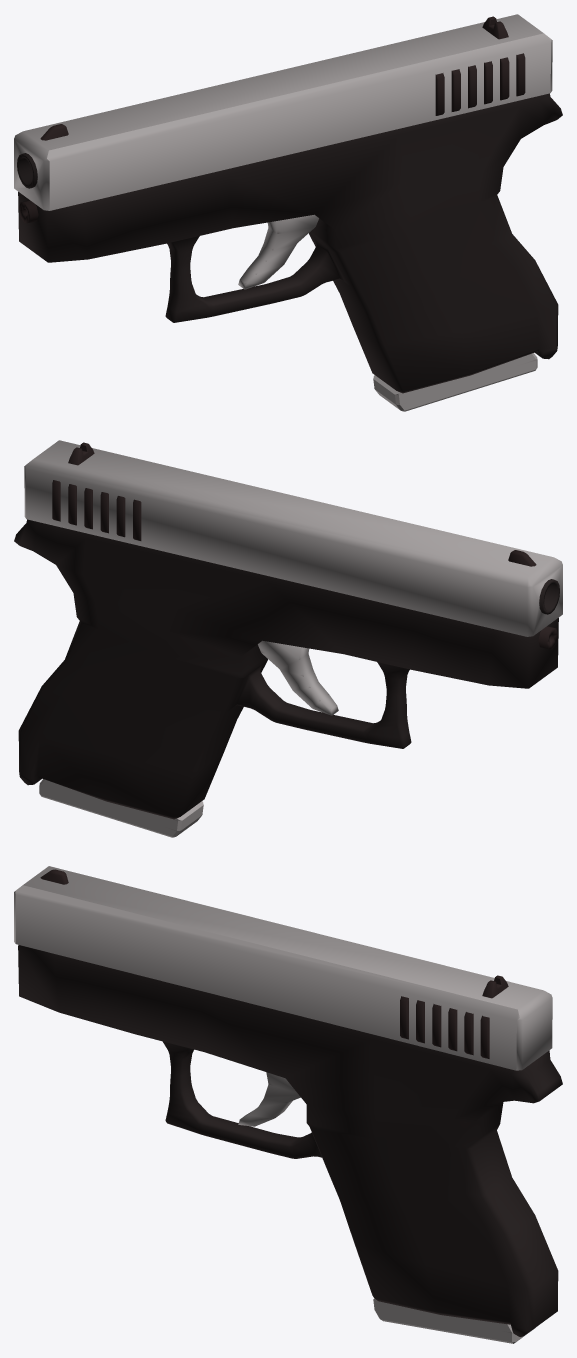
File: glock.fbx
3 views of the same model, one above another, from view 1: azimuth 30°, elevation 25°; view 2: azimuth 150°, elevation 25°; view 3: azimuth 330°, elevation 25° (orthographic).
Parts seen in each view (by area): view 1: Glock_base, Glock_top; view 2: Glock_base, Glock_top; view 3: Glock_base, Glock_top.
Boxes of the visible parts, x1,y1,x2,y2 form: Glock_base: (18, 93, 562, 411); Glock_top: (14, 14, 552, 210); Glock_base: (14, 519, 558, 837); Glock_top: (24, 440, 562, 636); Glock_base: (18, 945, 562, 1343); Glock_top: (14, 866, 552, 1070).
Size of the model in its own units: 979 by 640 by 122.
Materials: 1 (1 with a texture image).
